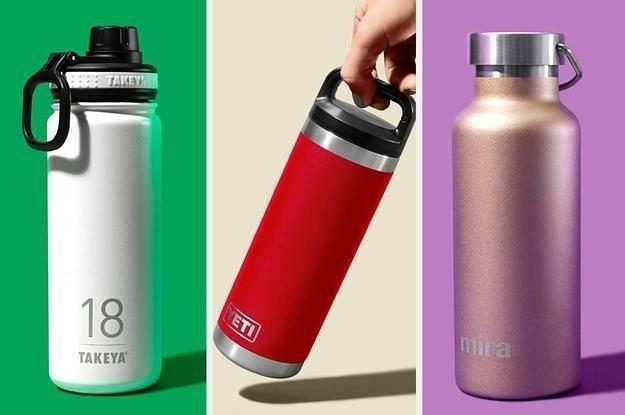gym bottle: (205, 64, 418, 389), (446, 24, 589, 407), (41, 14, 169, 402)
